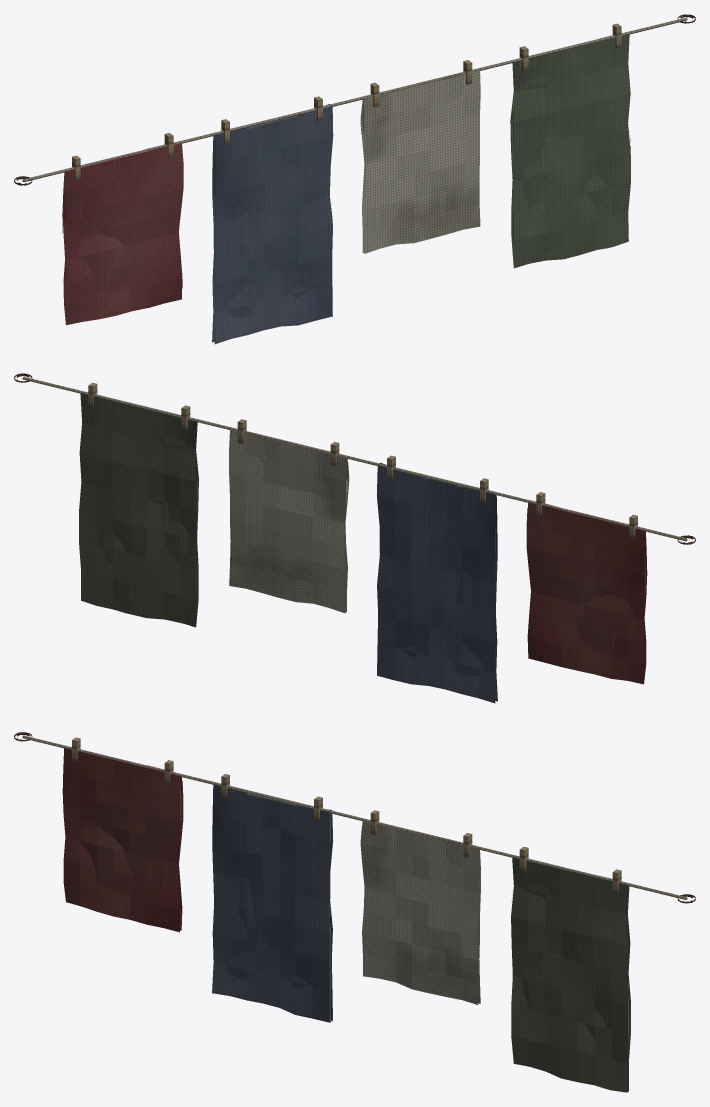
File: B13_IndoorClothesLine.glb
3 renders of one model, top to bottom at view 1: azimuth 30°, elevation 25°; view 2: azimuth 150°, elevation 25°; view 3: azimuth 330°, elevation 25°, orthographic.
Parts seen in each view (by area): view 1: B13_IndoorClothesLine; view 2: B13_IndoorClothesLine; view 3: B13_IndoorClothesLine.
Part boxes in pixels (left/top/right/bottom): B13_IndoorClothesLine: left=14, top=14, right=695, bottom=344; B13_IndoorClothesLine: left=14, top=373, right=695, bottom=703; B13_IndoorClothesLine: left=14, top=732, right=695, bottom=1092.
Size of the model in its own units: 2 by 0.6215 by 0.0469.
7 materials, 7 textured.
